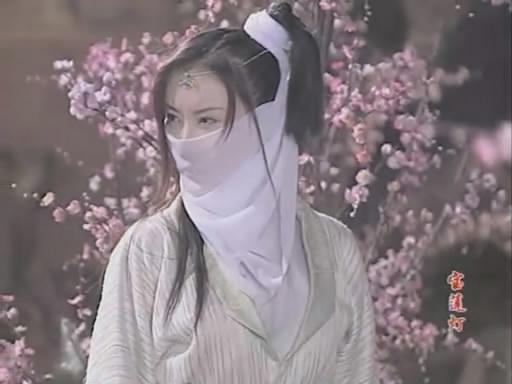WRONG: (161, 101, 247, 187)
